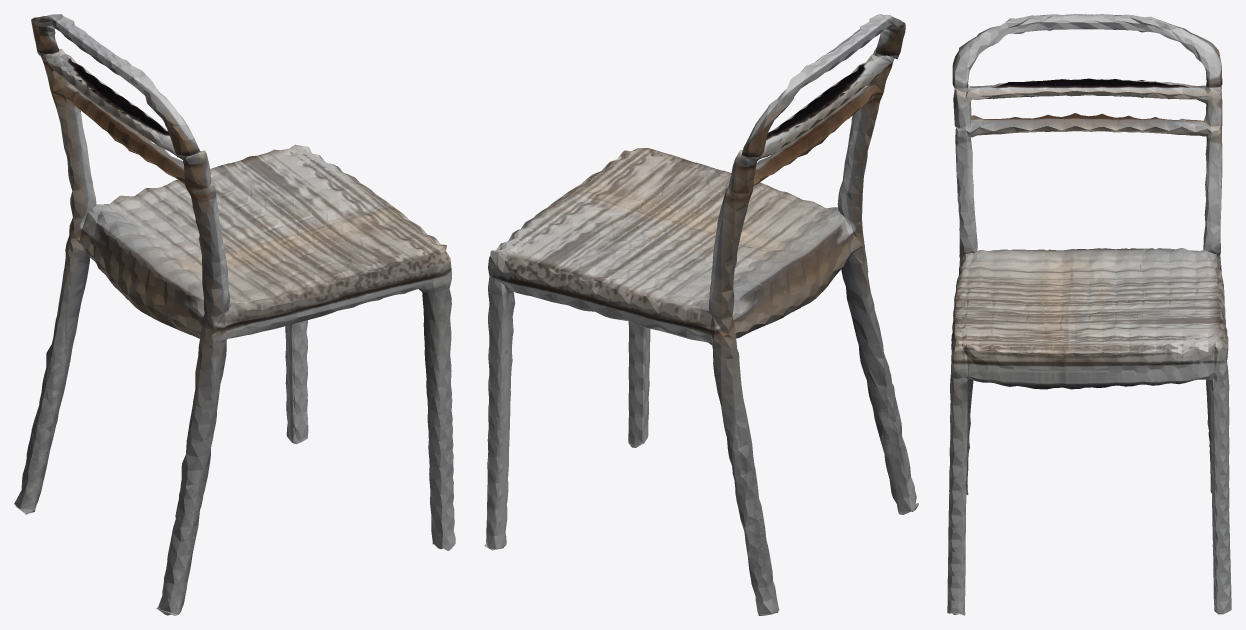
File: elem_94_131_206_213_6_6.obj
The picture shows the model from 3 angles, left to right: view 1: azimuth 30°, elevation 25°; view 2: azimuth 150°, elevation 25°; view 3: azimuth 270°, elevation 25°; orthographic projection. The views are drawn at different scales.
Size of the model in its own units: 0.4234 by 0.6998 by 0.3788.
1 material, 1 textured.
